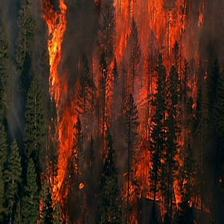fire: (31, 8, 206, 208)
